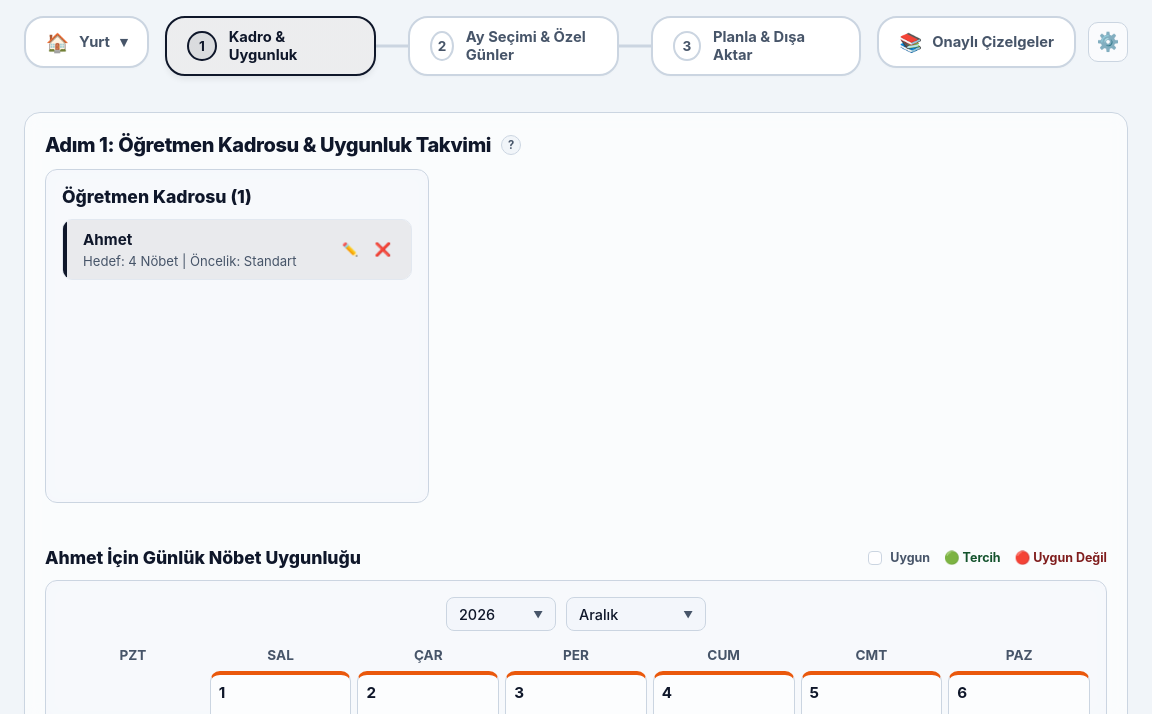
including earlier approved schedules in the export › is disabled, with the reason, when the school year has no earlier approved schedules
The width and height of the screenshot is (1152, 714).
Expected: the text "Adım 1: Öğretmen Kadrosu & Uygunluk Takvimi" is shown, [45, 133, 491, 157]
What coordinates should you click on to do the following:
click the text "Planla & Dışa Aktar"
I would click on:
 (759, 46)
Its box is [713, 28, 805, 64].
(page scrolled)
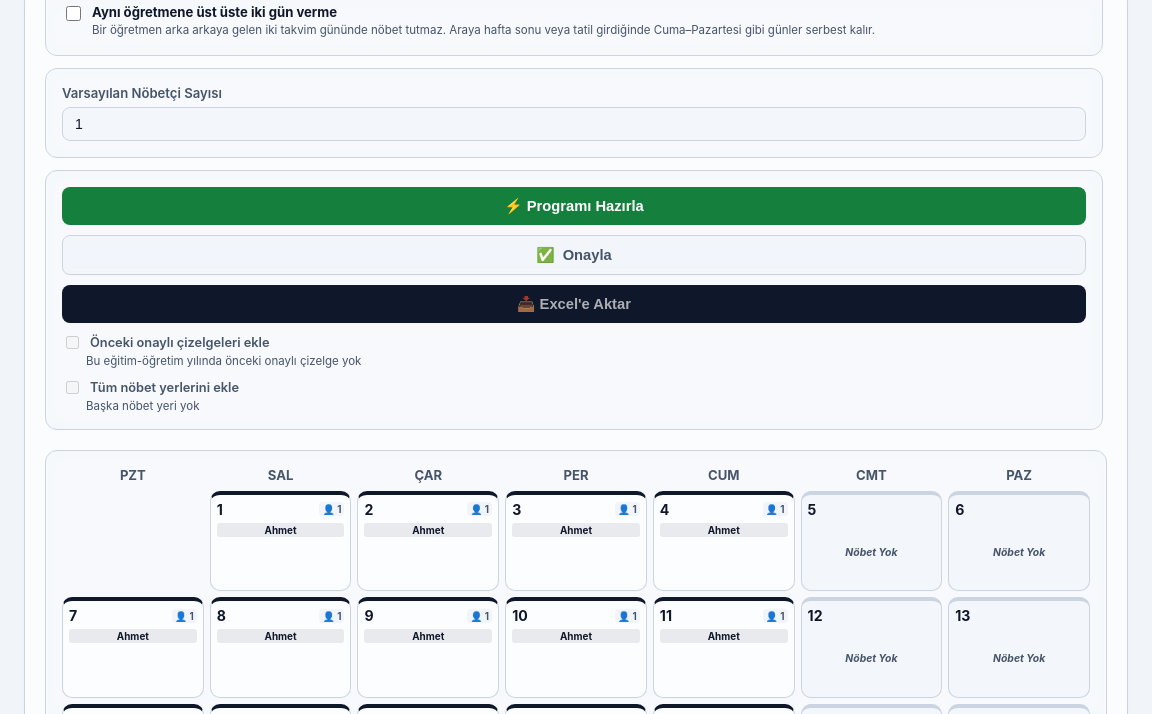
Expected: the checkbox labelled "Önceki onaylı çizelgeleri ekle" is not checked, [66, 336, 79, 349]
Now the checkbox labelled "Önceki onaylı çizelgeleri ekle" is disabled, box [66, 336, 79, 349]
Now the text "Bu eğitim-öğretim yılında önceki onaylı çizelge yok" is shown, box [86, 354, 362, 368]
